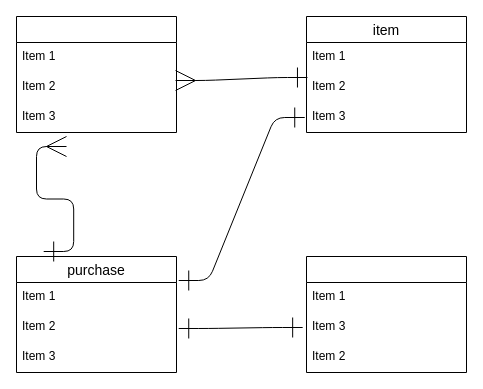
Some shapes in this 483 by 389 pixel diagram are drawn without their labels. The box of each missing label's shape, as (x1, y1, x2, y2) in pixels:
shipping_address: (306, 256, 466, 372)
user: (16, 16, 176, 132)
